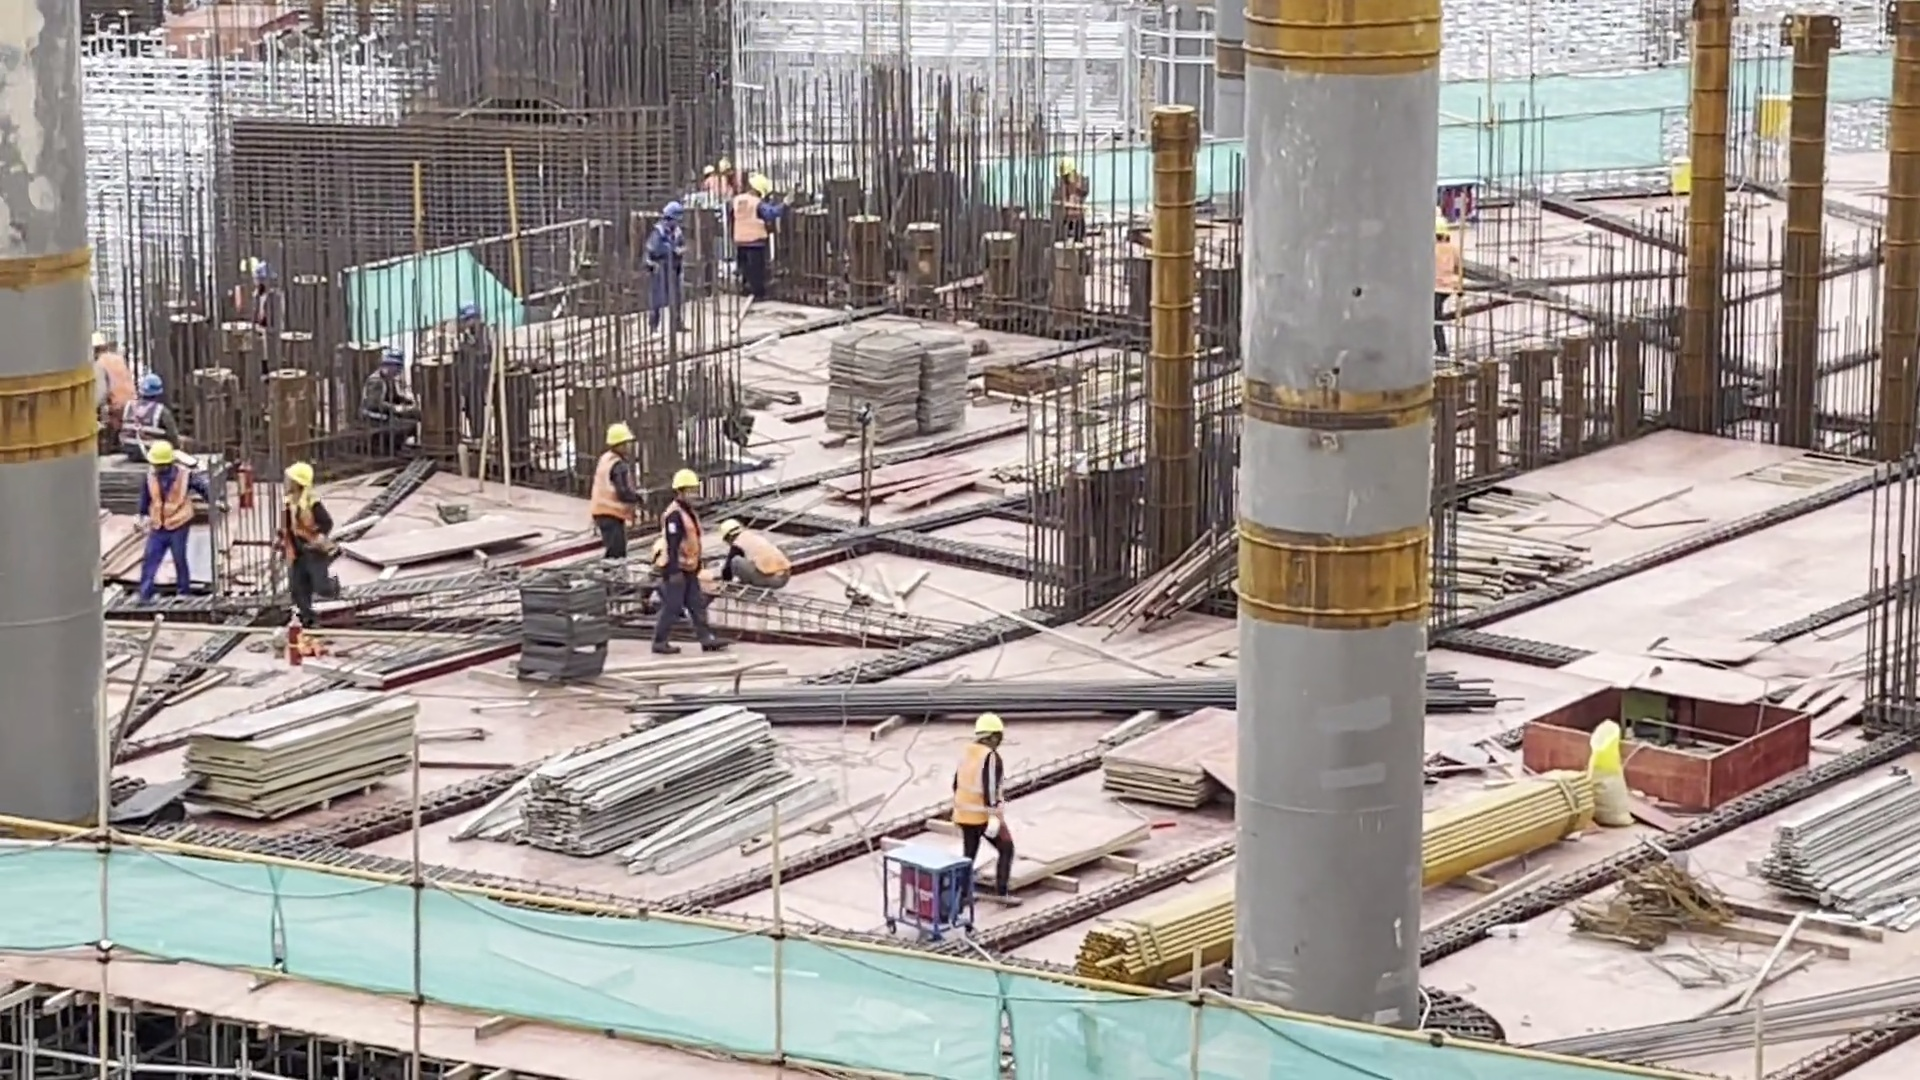helmet: (284, 462, 315, 489), (973, 708, 1004, 736), (669, 467, 699, 490), (146, 441, 175, 464), (605, 422, 635, 445), (719, 518, 741, 541)
person: (957, 706, 1028, 910), (653, 468, 728, 652), (129, 446, 200, 603), (275, 459, 342, 625), (589, 417, 638, 557), (729, 174, 788, 286), (637, 203, 686, 336), (720, 517, 795, 597), (355, 336, 413, 416), (122, 374, 178, 450), (1435, 209, 1460, 365), (91, 328, 135, 405), (248, 265, 284, 336), (695, 163, 731, 197)
vest: (656, 496, 709, 574), (280, 491, 339, 559), (958, 745, 1006, 828), (592, 449, 638, 525), (146, 468, 195, 532), (738, 530, 793, 573), (732, 193, 770, 250), (1433, 239, 1463, 297)
